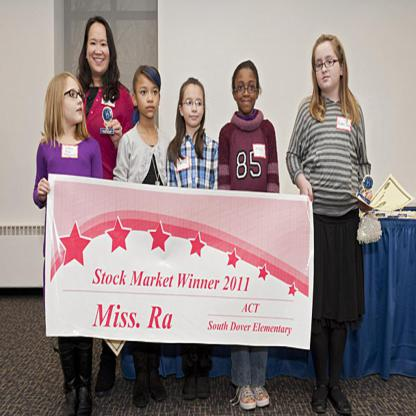face: (316, 45, 341, 90), (88, 27, 111, 74), (60, 79, 84, 124), (137, 74, 160, 119), (236, 69, 257, 113), (184, 88, 205, 127)
